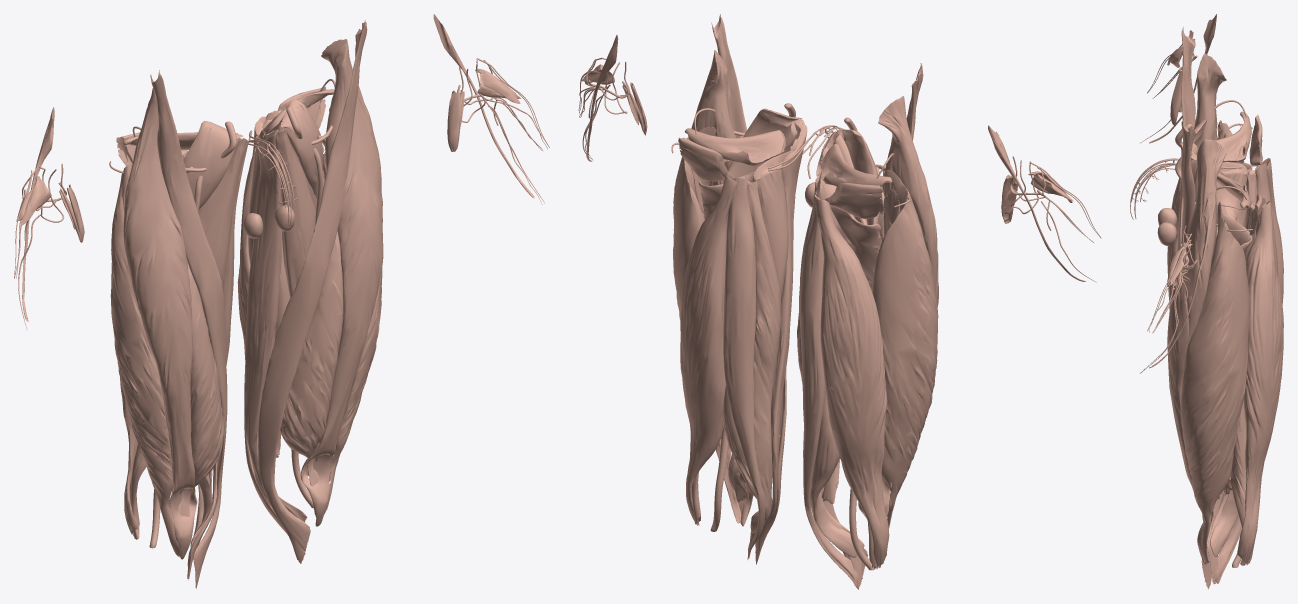
File: male-unclassified-height-lower-middle.glb
3 views of the same model, side by side, from view 1: azimuth 30°, elevation 25°; view 2: azimuth 150°, elevation 25°; view 3: azimuth 270°, elevation 25° (orthographic). The views are drawn at different scales.
Visible parts, largest first — view 1: FMA38928, FMA38929, FMA22355, FMA38930, FMA22354, FMA43884, FMA38933, FMA38932, FMA22457, FMA22456, FMA22450, FMA38931 (+11 smaller); view 2: FMA45888, FMA38930, FMA45889, FMA22359, FMA22449, FMA22358, FMA38928, FMA43884, FMA38931, FMA22460, FMA22448, FMA22459 (+12 smaller); view 3: FMA38931, FMA45889, FMA38929, FMA38928, FMA22355, FMA22354, FMA45892, FMA22460, FMA22449, FMA22326, FMA45888, FMA22359 (+16 smaller).
Part boxes in pixels (x1,y1,x2,y2): FMA38928: (123, 88, 197, 559); FMA38929: (300, 39, 383, 526); FMA22355: (258, 20, 367, 563); FMA38930: (110, 163, 179, 557); FMA22354: (150, 70, 227, 588); FMA43884: (244, 129, 307, 522); FMA38933: (280, 152, 343, 486); FMA38932: (178, 261, 224, 516); FMA22457: (275, 127, 315, 297); FMA22456: (198, 139, 246, 284); FMA22450: (183, 121, 243, 208); FMA38931: (324, 107, 382, 513); FMA45888: (815, 199, 889, 568); FMA38930: (872, 170, 938, 527); FMA45889: (680, 176, 736, 525); FMA22359: (723, 177, 765, 559); FMA22449: (723, 180, 781, 533); FMA22358: (799, 195, 858, 586); FMA38928: (858, 96, 938, 519); FMA43884: (749, 123, 807, 558); FMA38931: (673, 127, 741, 523); FMA22460: (698, 150, 793, 298); FMA22448: (797, 194, 856, 557); FMA22459: (814, 157, 881, 503); FMA38931: (1180, 201, 1249, 563); FMA45889: (1237, 201, 1283, 564); FMA38929: (1167, 139, 1226, 564); FMA38928: (1167, 53, 1226, 308); FMA22355: (1181, 118, 1224, 589); FMA22354: (1177, 26, 1203, 521); FMA45892: (1230, 399, 1254, 565); FMA22460: (1216, 181, 1252, 496); FMA22449: (1210, 203, 1255, 556); FMA22326: (1214, 111, 1251, 162); FMA45888: (1262, 158, 1283, 304); FMA22359: (1214, 198, 1266, 583).
Size of the model in its own units: 0.6489 by 0.6276 by 0.177.
